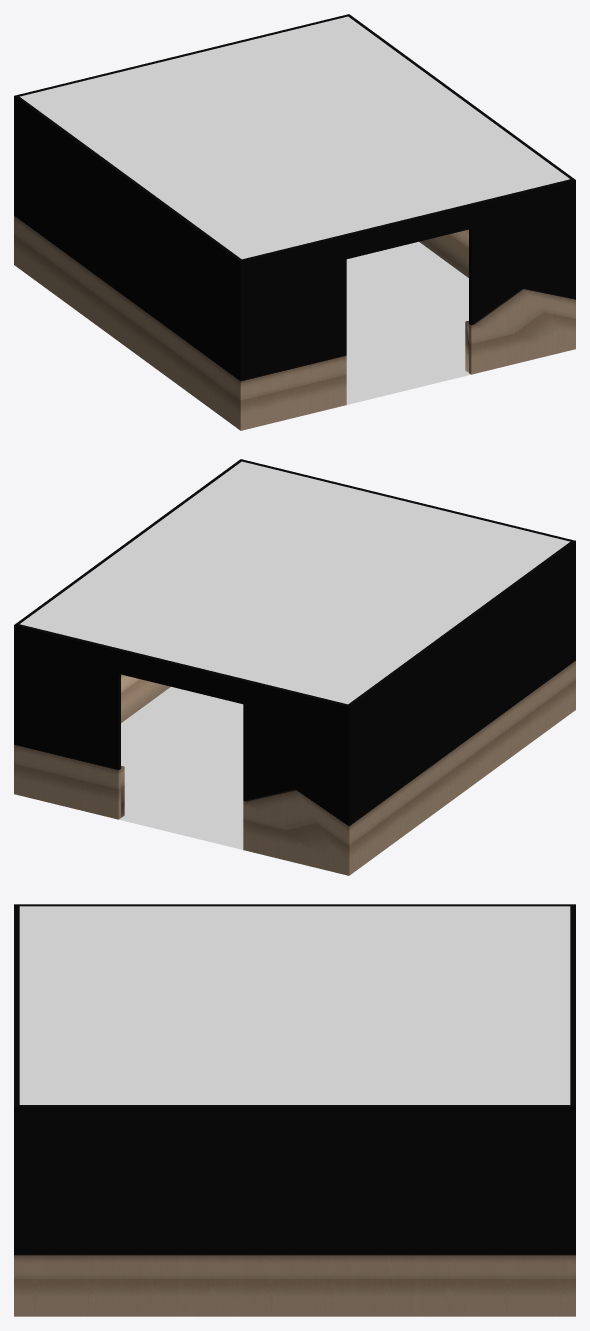
The model's file is Room.fbx.
The picture shows the model from 3 angles, top to bottom: view 1: azimuth 30°, elevation 25°; view 2: azimuth 150°, elevation 25°; view 3: azimuth 270°, elevation 25°; orthographic projection. The views are drawn at different scales.
Visible parts, largest first — view 1: Plane.002, Plane, Plane.001; view 2: Plane.002, Plane, Plane.001; view 3: Plane.002, Plane.
Boxes of the visible parts, x1,y1,x2,y2 form: Plane.002: (14,14,575,430); Plane: (20,16,569,259); Plane.001: (346,241,470,404); Plane.002: (14,459,575,875); Plane: (20,461,569,704); Plane.001: (119,686,243,849); Plane.002: (14,904,575,1316); Plane: (19,906,570,1104).
Size of the model in its own units: 174 by 83.91 by 204.
